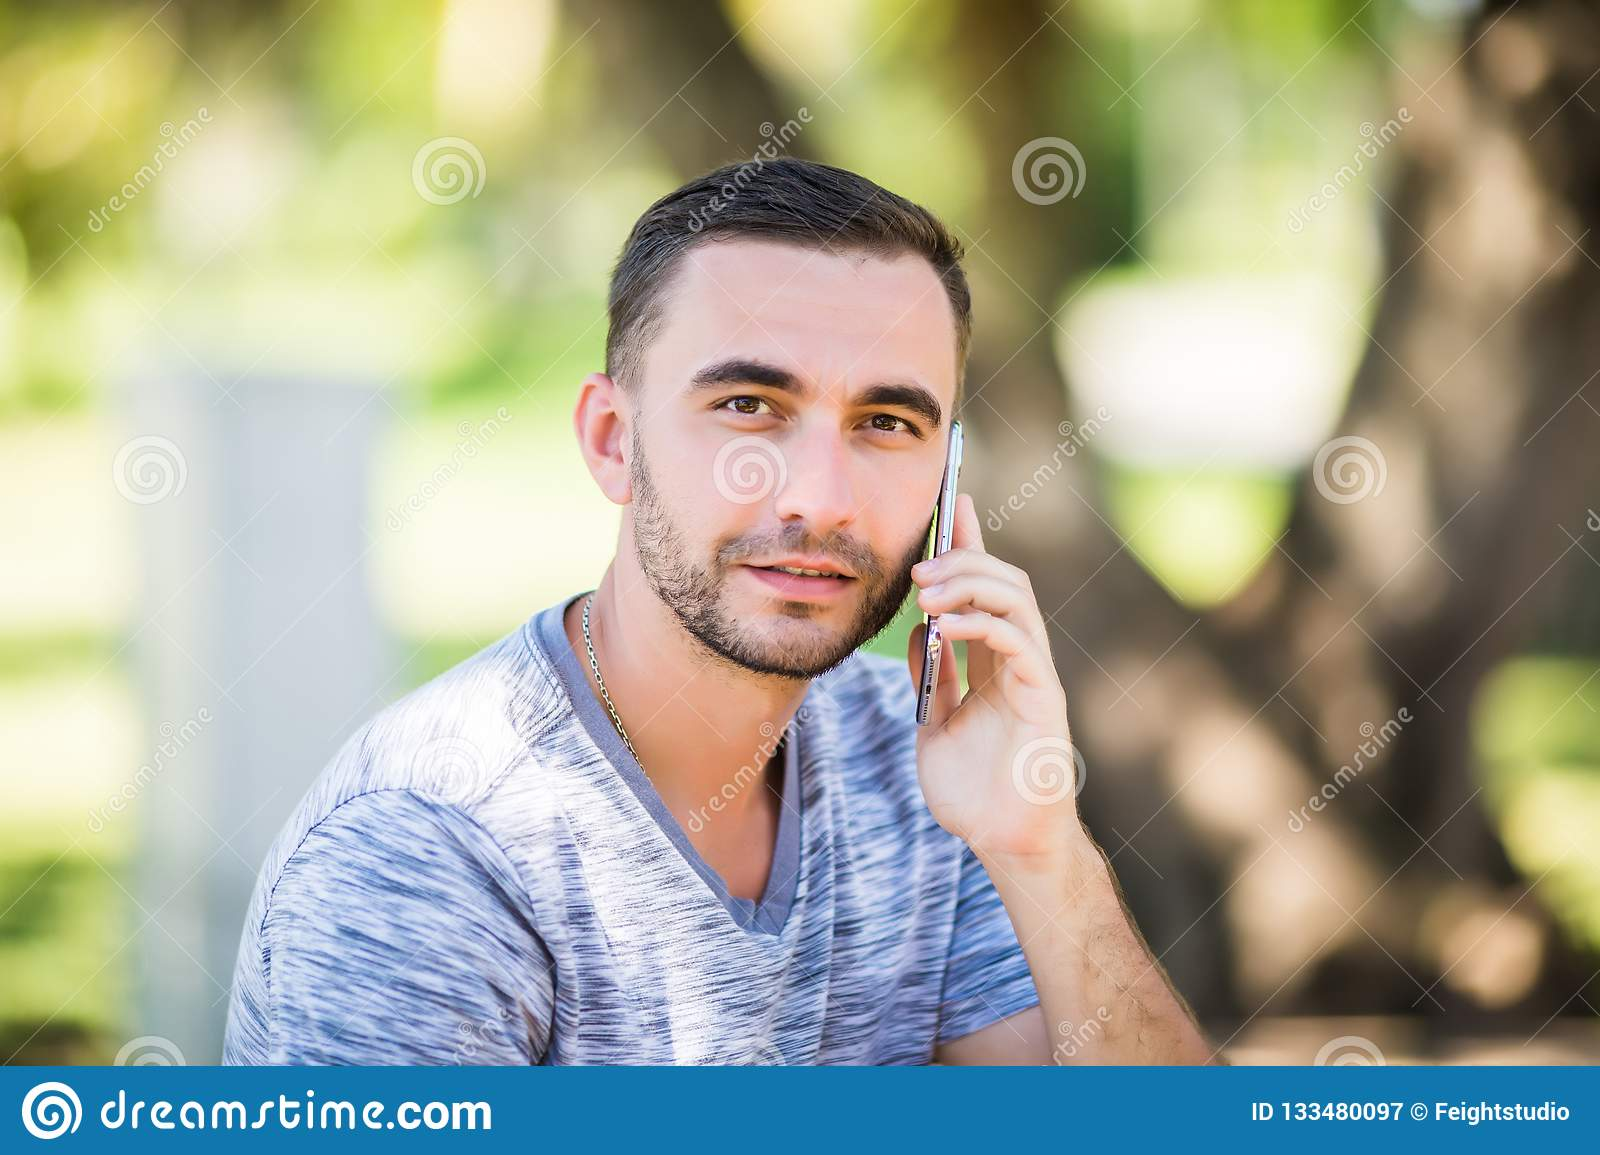phone: (914, 406, 966, 739)
talk: (648, 344, 1096, 857)
